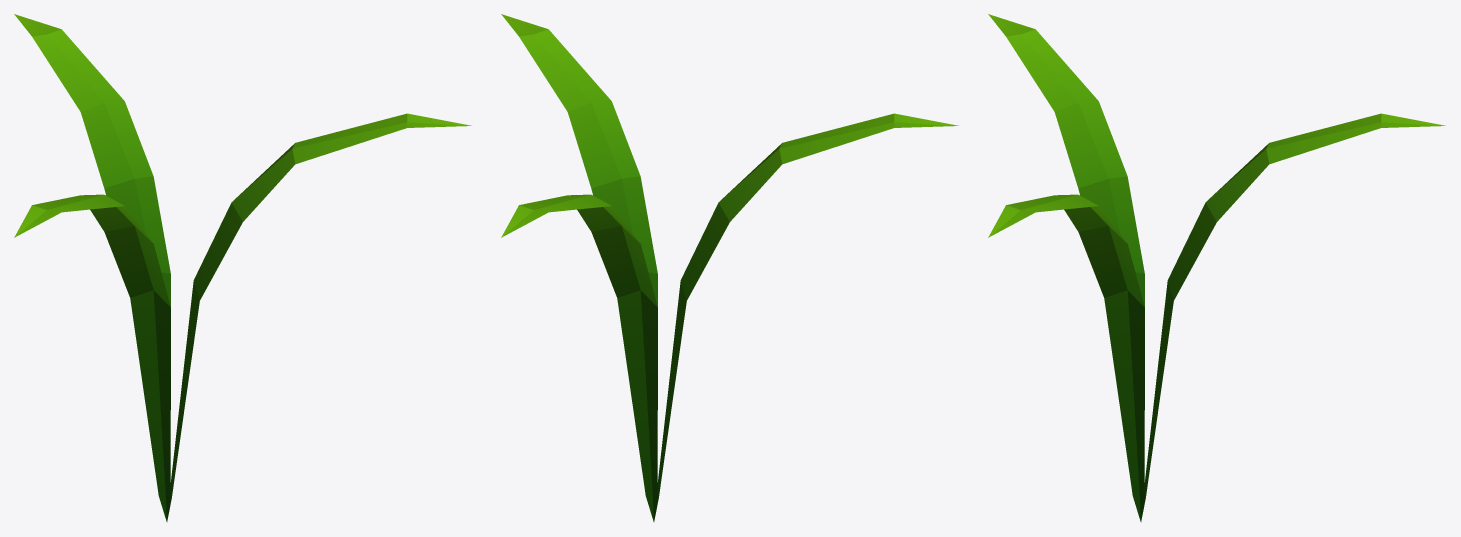
File: grass_5.glb
The picture shows the model from 3 angles, left to right: view 1: azimuth 30°, elevation 25°; view 2: azimuth 150°, elevation 25°; view 3: azimuth 270°, elevation 25°; orthographic projection.
Parts seen in each view (by area): view 1: grass_5; view 2: grass_5; view 3: grass_5.
Part boxes in pixels (left/top/right/bottom): grass_5: left=14, top=14, right=471, bottom=521; grass_5: left=501, top=14, right=958, bottom=521; grass_5: left=988, top=14, right=1445, bottom=521.
Bounding box in the file's own units: 0.7393 × 0.6191 × 0.6402.
Materials: 1 (1 with a texture image).
